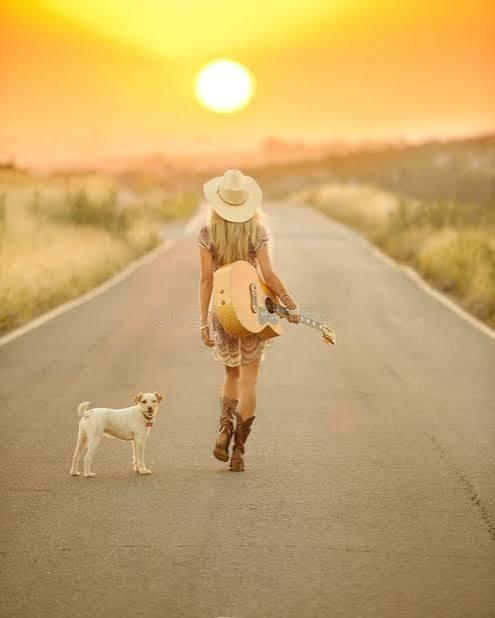adult_dog: (70, 390, 166, 479)
non-dog: (199, 169, 299, 474)
